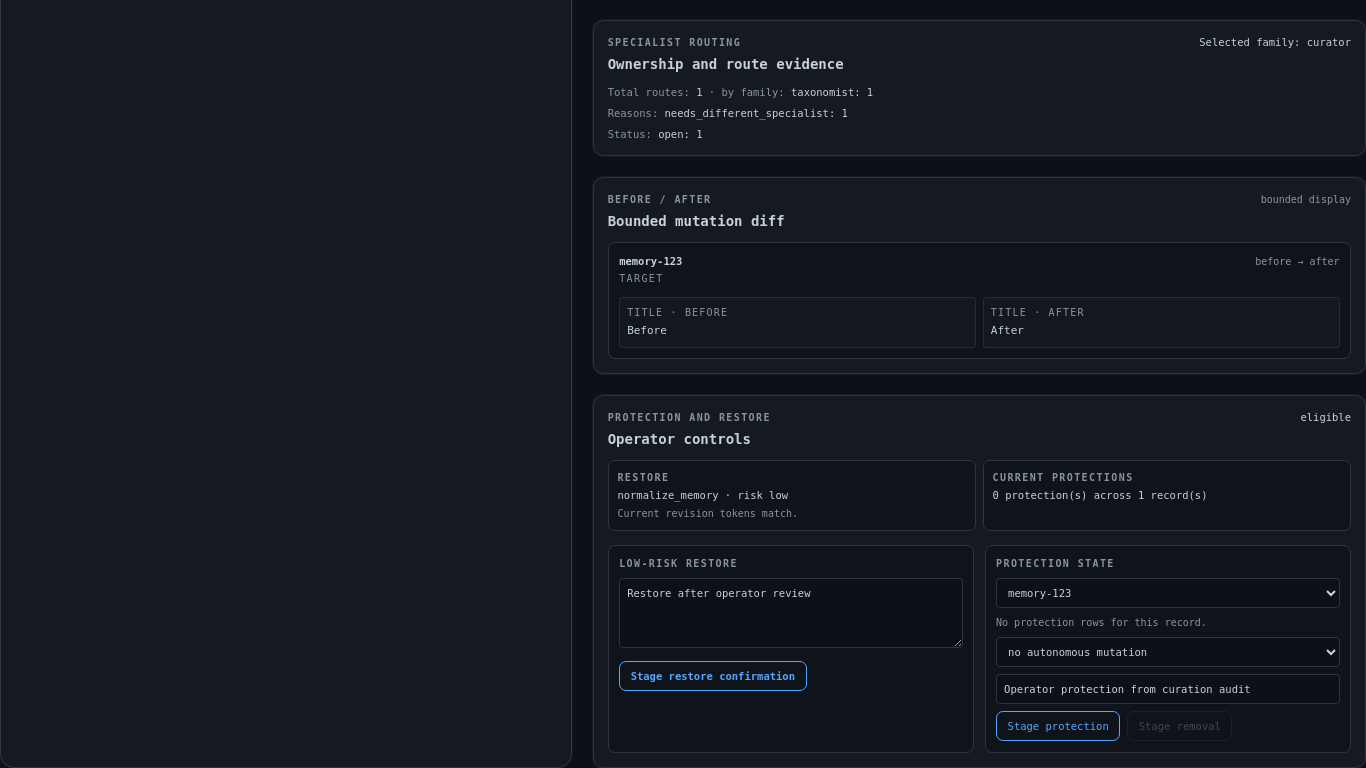
Test case: CurationAuditPage › loads bounded audit data and requires a second confirmation for restore
(page scrolled)
Expected: the text "Before" is shown, [627,324,667,337]
Click the button "Stage restore confirmation": (713, 676) [619,661,806,691]
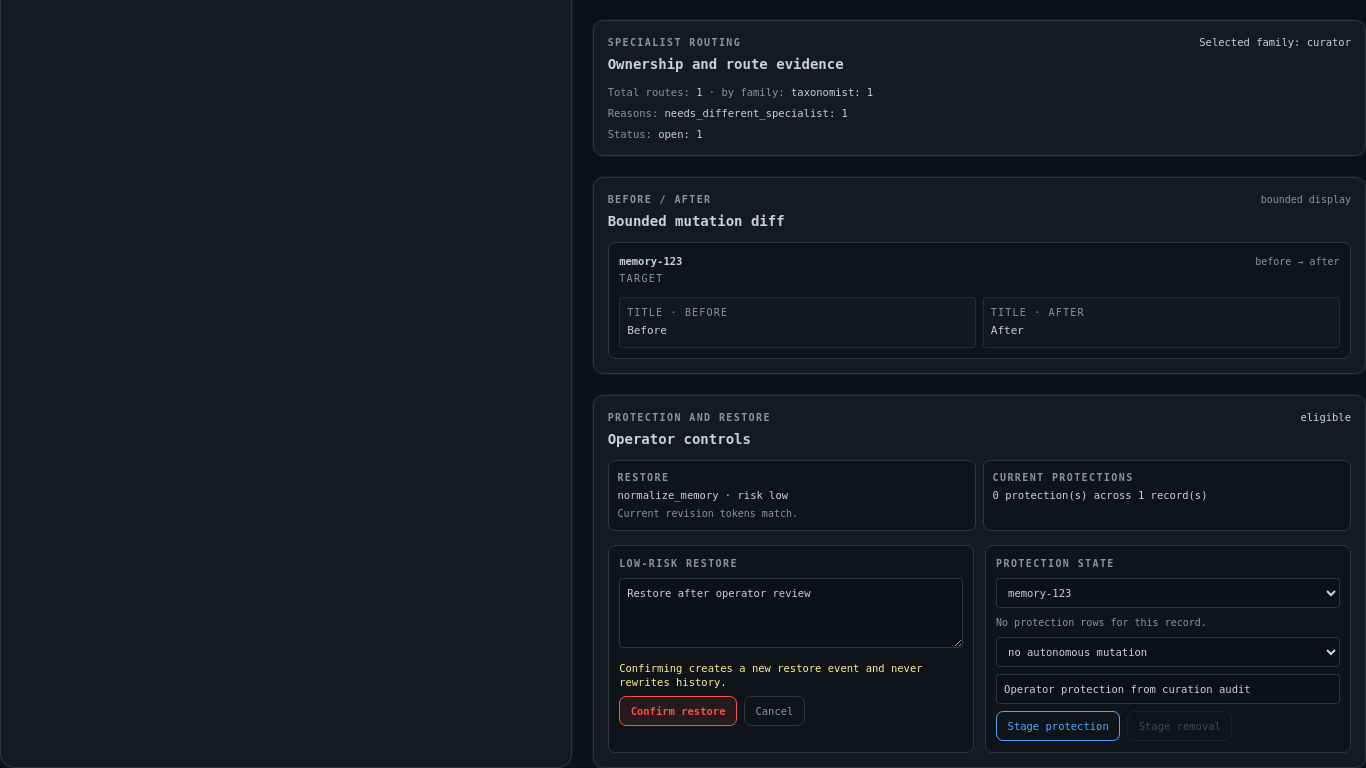
Result: the text "Confirming creates a new restore event and never rewrites history." is shown at [619,661,962,689]
Click the button "Confirm restore": (678, 711) [619,696,737,726]
(page scrolled)
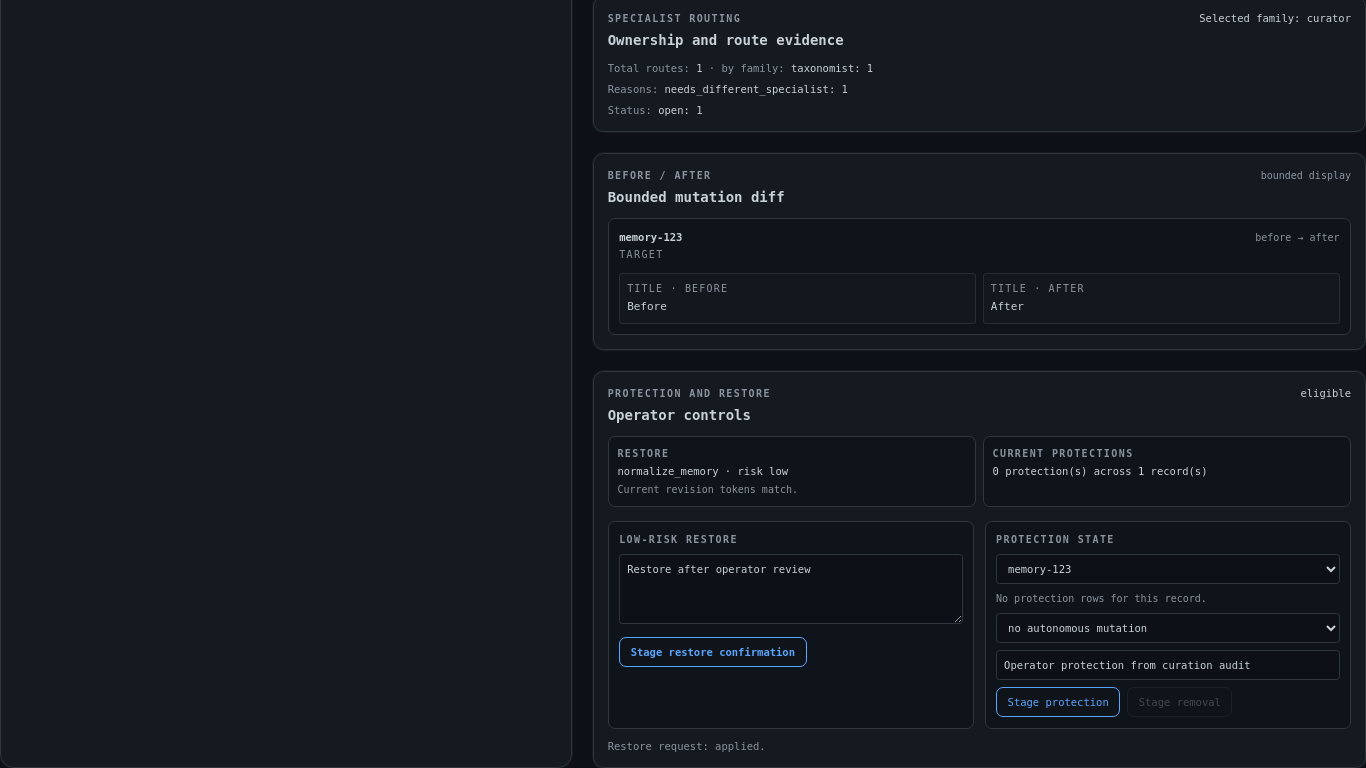
Result: the message reads "Restore request: applied." at [608,740,766,752]
